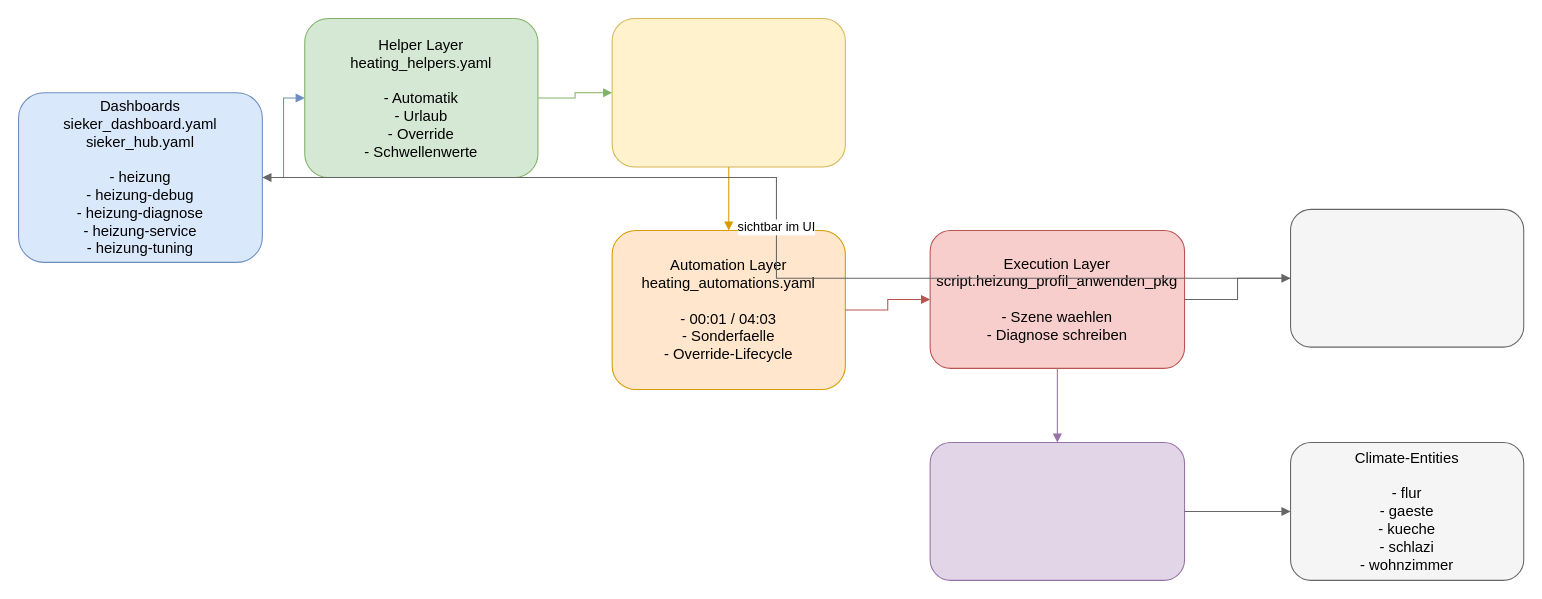
Some shapes in this 1542 by 599 pixel diagram are drawn without their labels. The centre of each missing label's shape, as x and y in pixels:
Decision Layer heating_templates.yaml - anwesend_stabil - heizung_sollprofil: point (728, 92)
Diagnose-Helfer - aktives_profil - last_applied - last_action - last_scene: point (1406, 277)
Scene Layer heating_scenes.yaml - 17 / 19 / 21 Grad - preset_mode setzen: point (1057, 510)
